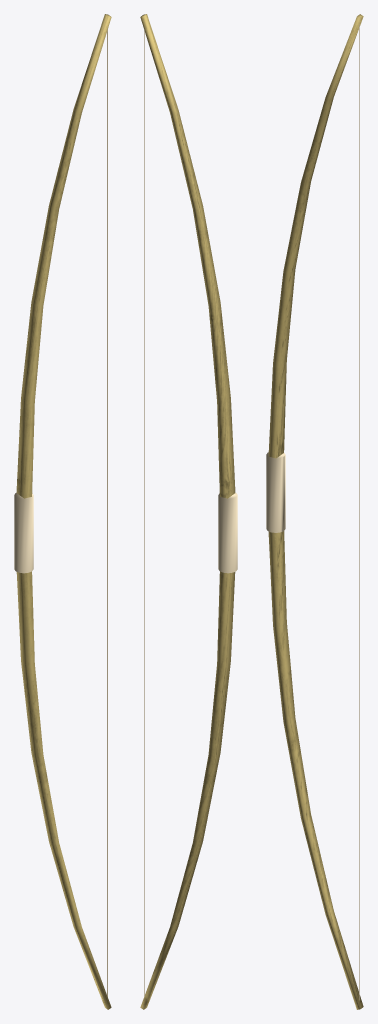
The model's file is adobe_arc_long.gltf.
3 renders of one model, left to right at view 1: azimuth 30°, elevation 25°; view 2: azimuth 150°, elevation 25°; view 3: azimuth 330°, elevation 25°, orthographic.
Parts seen in each view (by area): view 1: arc_long; view 2: arc_long; view 3: arc_long.
Part boxes in pixels (bbox=[...]): arc_long: bbox=[14, 14, 111, 1009]; arc_long: bbox=[140, 14, 237, 1009]; arc_long: bbox=[266, 14, 363, 1009].
Bounding box in the file's own units: 0.1972 × 1.98 × 0.0348.
Materials: 1 (1 with a texture image).
